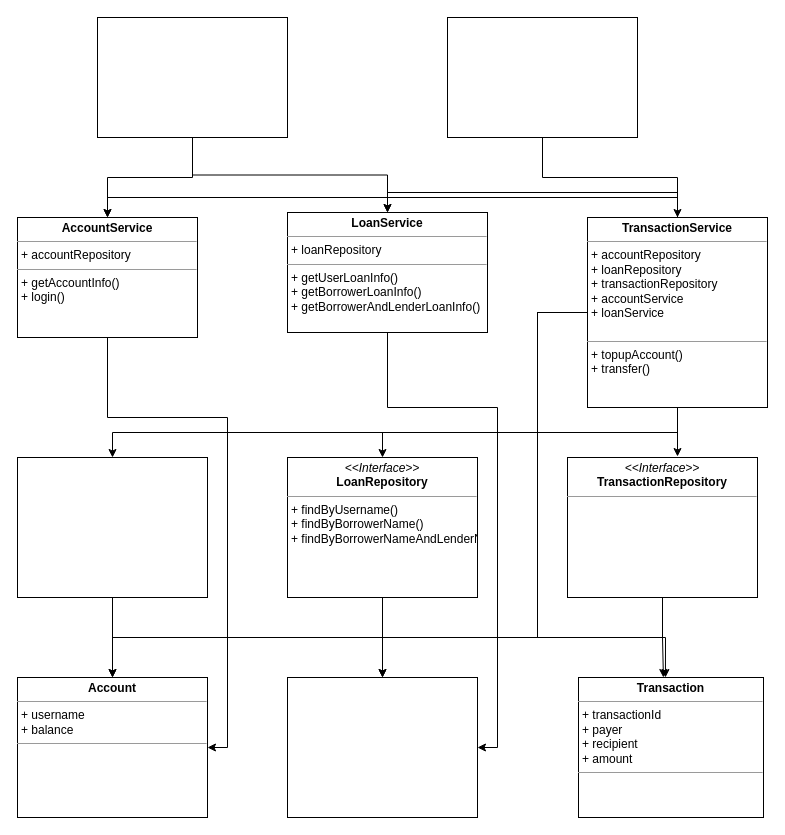
The diagram is 785 pixels wide and 835 high, and some of its shapes have lost their labels. The shapes that lost their labels are listed below. From the top down, each one's box as (x1, y1, x2, y2) in pixels, then its label:
(96, 16, 288, 138): AccountController + accountService + loanService + login()
(446, 16, 638, 138): TransactionController + transactionService + topup() + pay()
(16, 456, 208, 598): <<Interface>> AccountRepository
(286, 676, 478, 818): Loan + loanId + borrower + lender + amount
